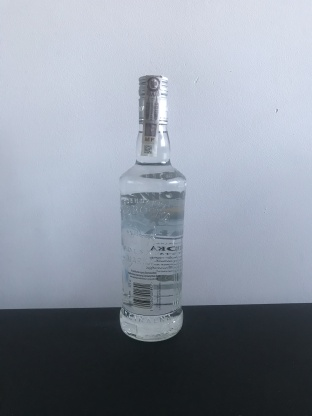nakretka: (135, 69, 170, 127)
